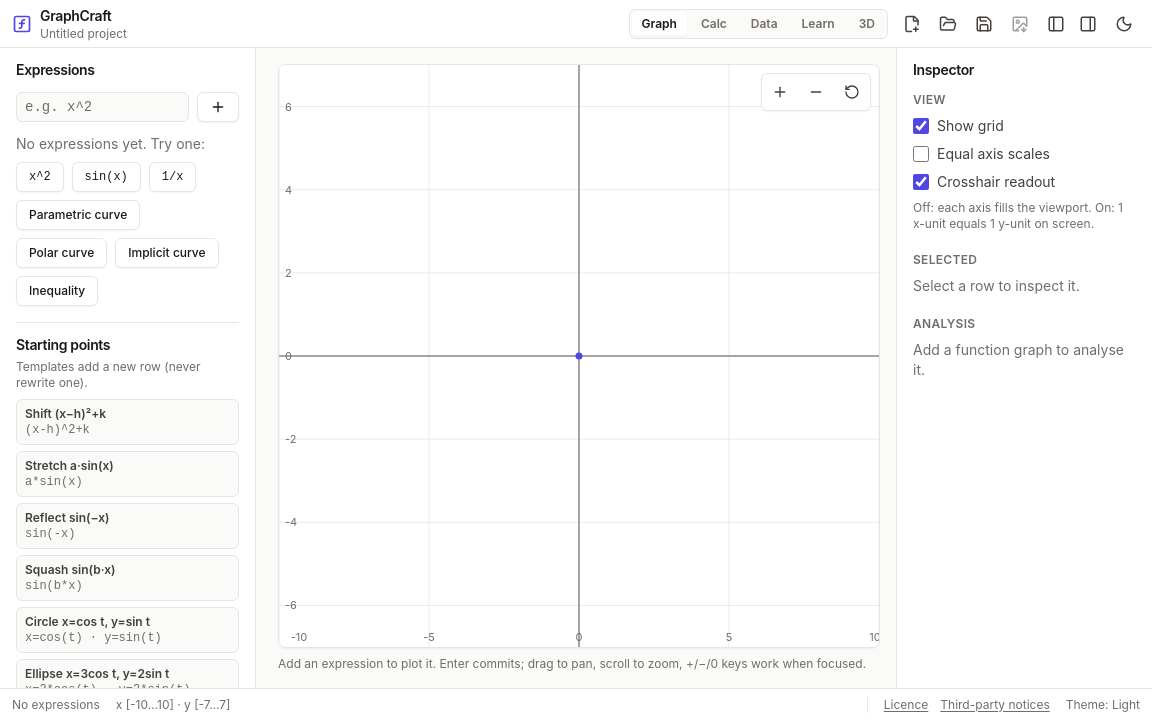
analysis integration › keeps tangent and normal overlays after collapsing and reopening the inspector
Type "x^2" into the field named "New expression" at point(102, 107), box [16, 92, 189, 122]
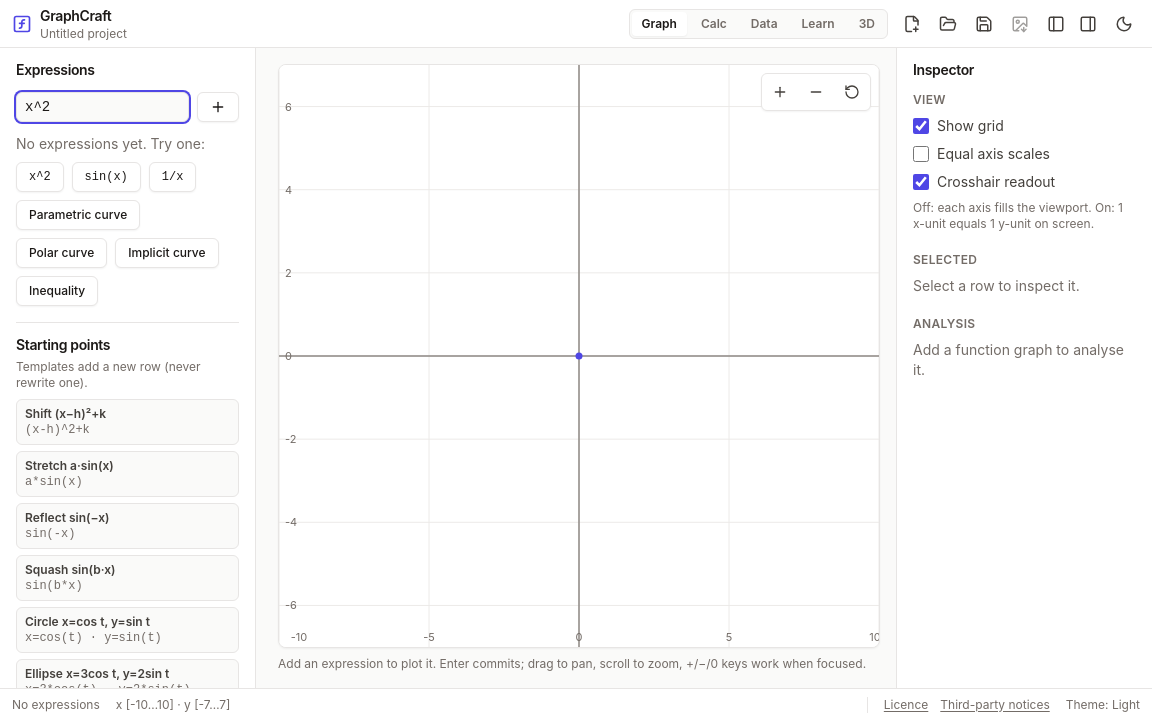
Press Enter
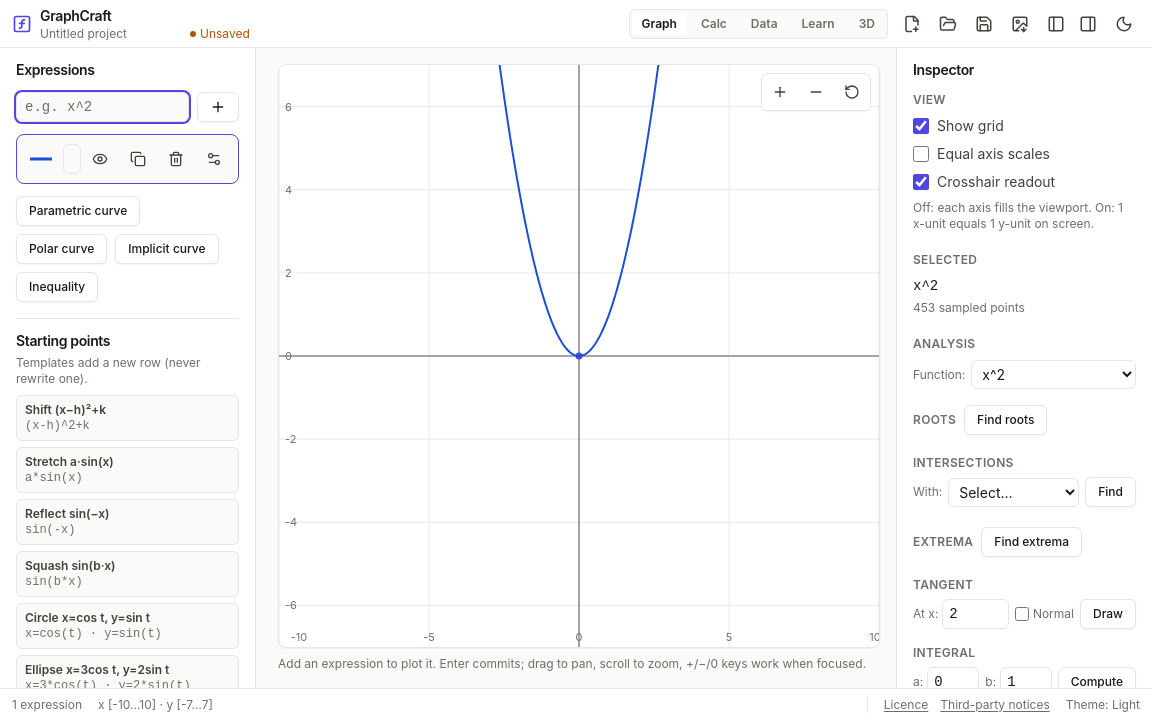
Click the checkbox labelled "Normal" at point(1022, 614), box [1015, 607, 1029, 621]
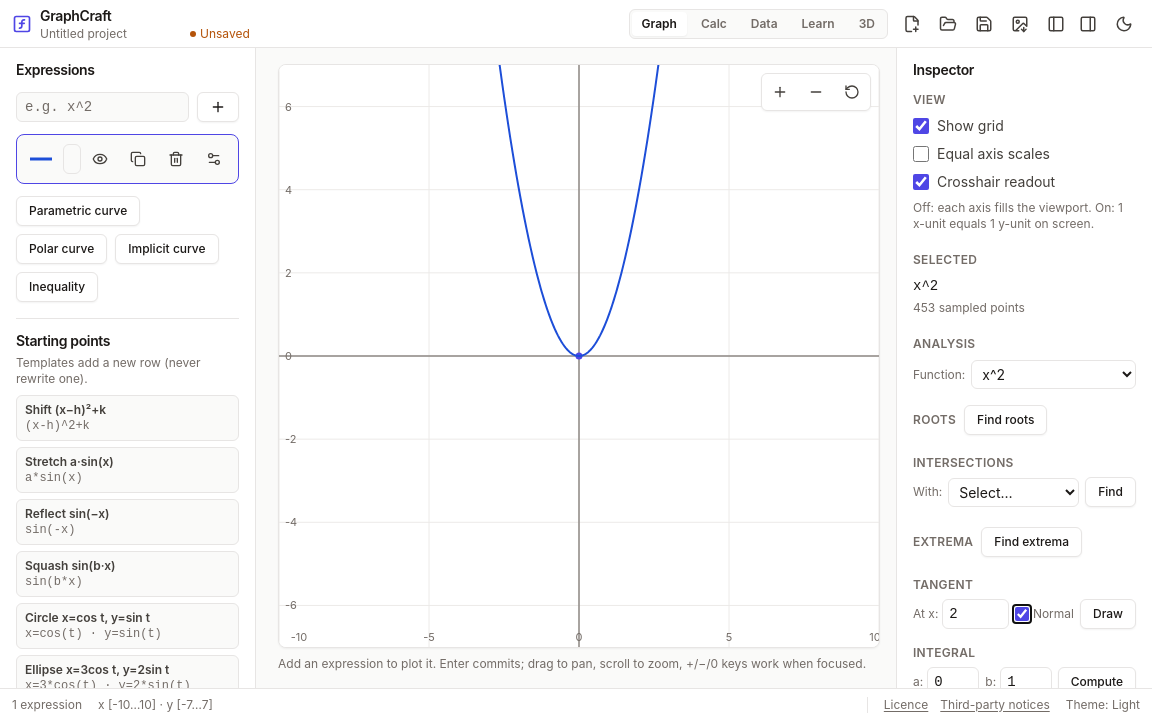
Click the button "Draw" at point(1108, 614), box [1080, 599, 1136, 629]
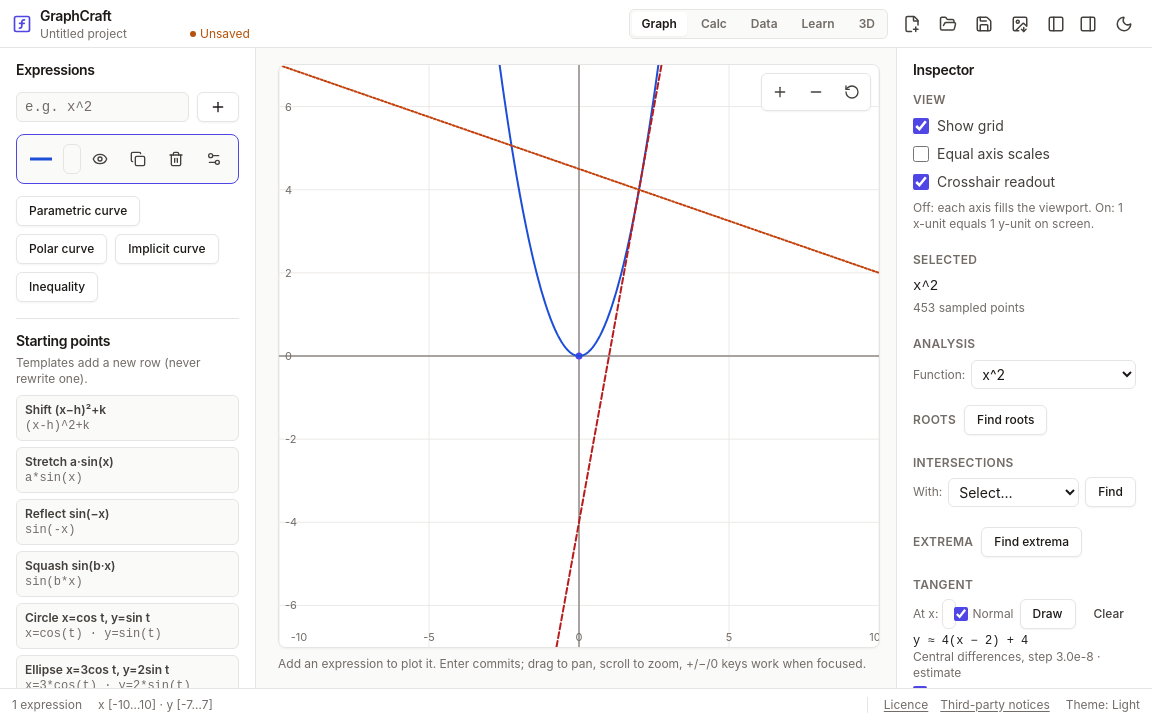
Result: the text "y ≈ 4(x − 2) + 4" is shown at [913, 634, 1028, 648]
Click the button named "Collapse inspector" at point(1088, 24), box [1072, 8, 1104, 40]
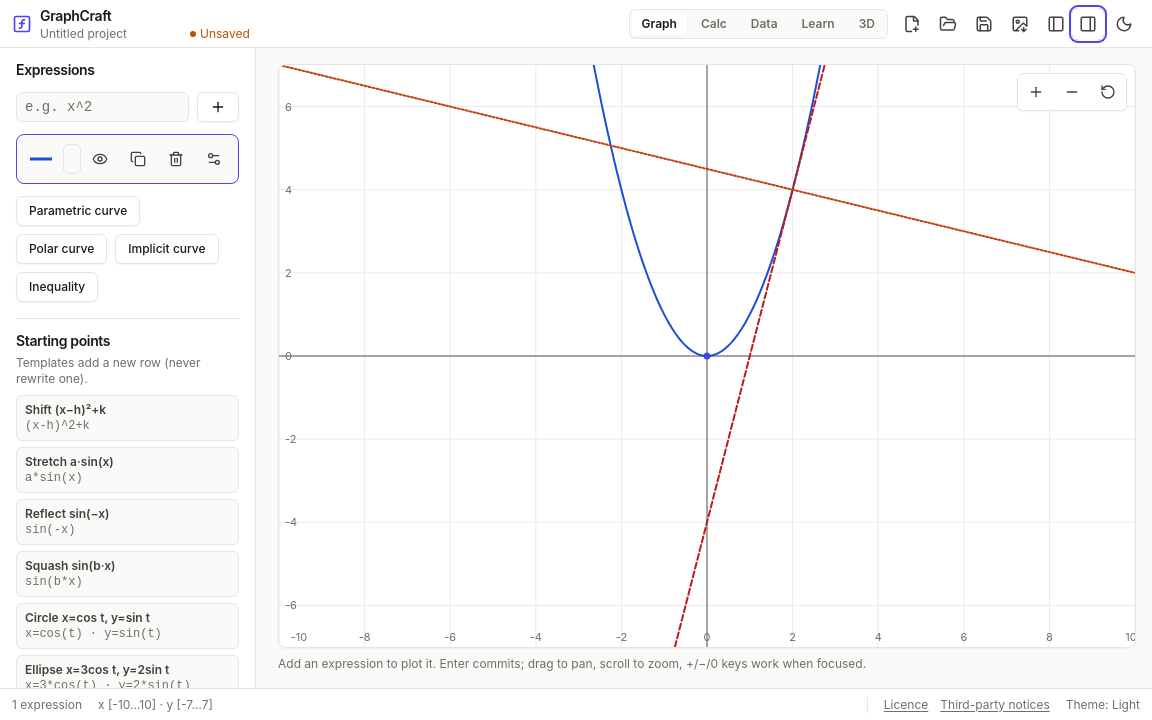
Result: the heading "Inspector" is gone
Click the button named "Expand inspector" at point(1088, 24), box [1072, 8, 1104, 40]
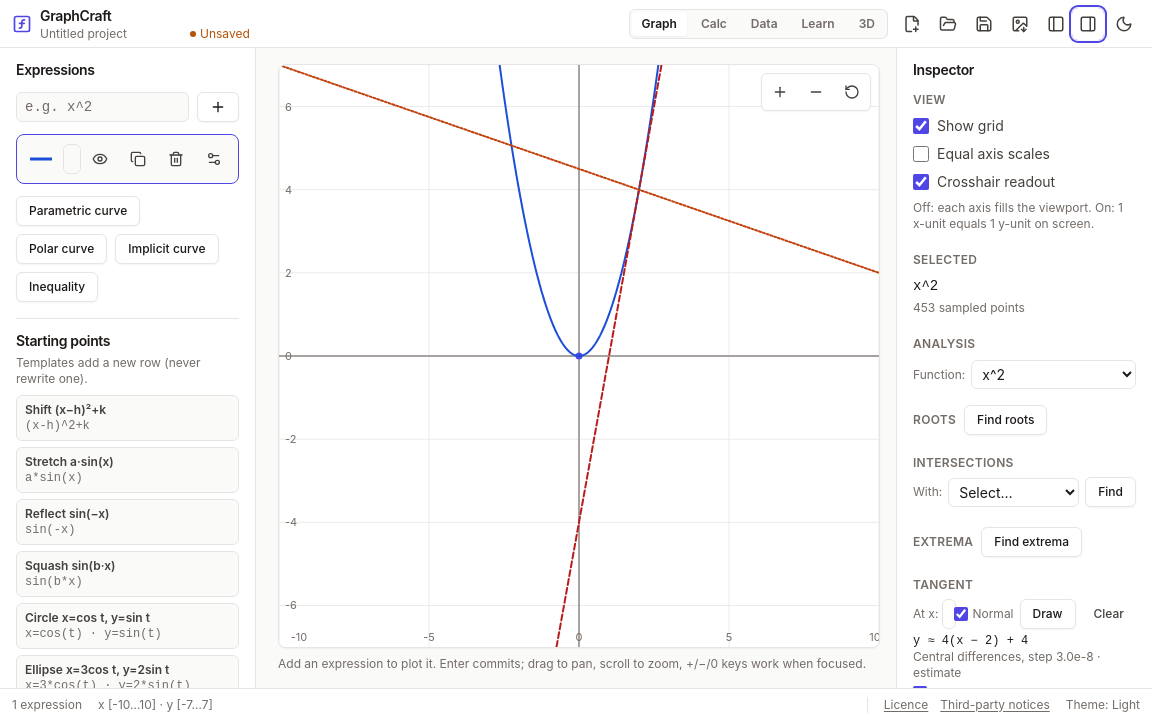
Result: the text "y ≈ 4(x − 2) + 4" is shown at [913, 634, 1028, 648]
